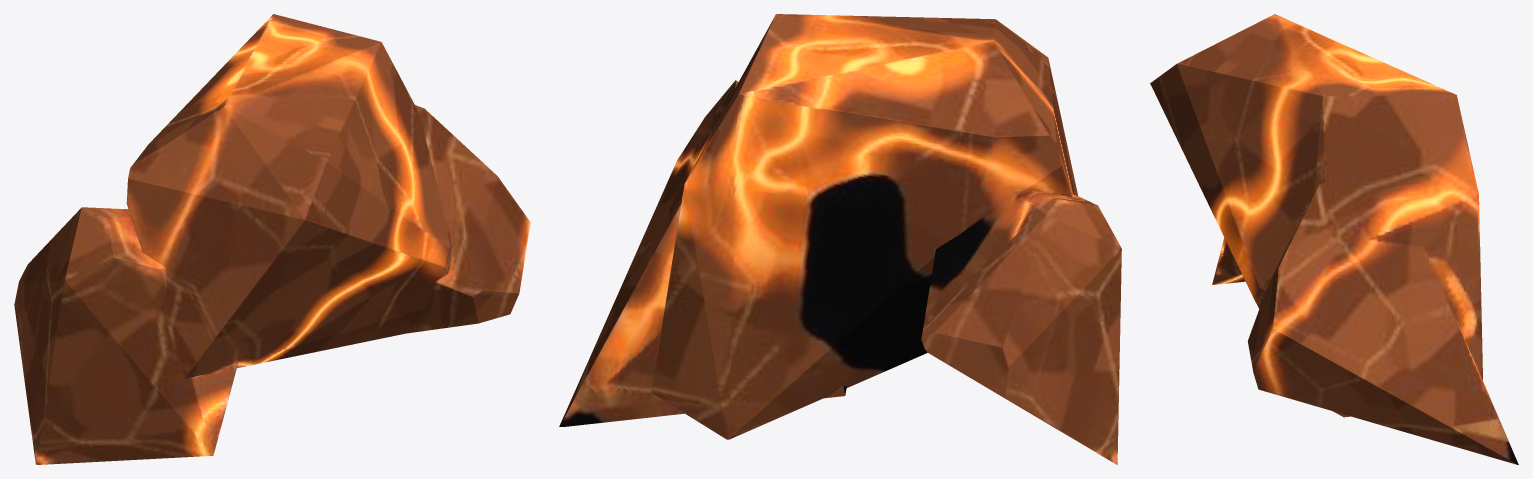
The model's file is res_copper_ore_low.glb.
3 views of the same model, side by side, from view 1: azimuth 30°, elevation 25°; view 2: azimuth 150°, elevation 25°; view 3: azimuth 270°, elevation 25° (orthographic). The views are drawn at different scales.
Parts seen in each view (by area): view 1: res_copper_ore_low; view 2: res_copper_ore_low; view 3: res_copper_ore_low.
Part boxes in pixels (x1,y1,x2,y2): res_copper_ore_low: (14,14,530,464); res_copper_ore_low: (559,14,1121,464); res_copper_ore_low: (1150,14,1518,464).
Size of the model in its own units: 0.8599 by 0.6191 by 0.6433.
1 material, 1 textured.
